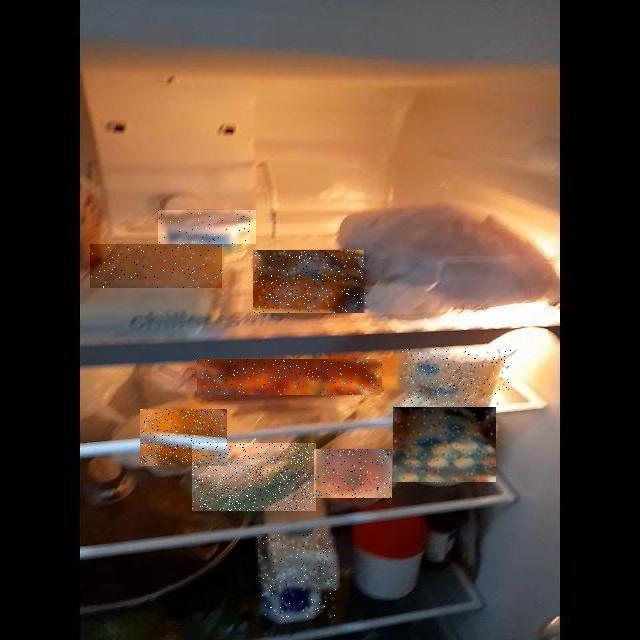Butter: (254, 250, 368, 313)
Carrot: (197, 359, 382, 395)
Cheese: (90, 244, 222, 288)
Chillies: (192, 443, 316, 511)
Lemon: (140, 409, 227, 466)
Milk: (258, 534, 336, 618)
Tomato Paste: (315, 449, 393, 498)
Yoghurt: (393, 407, 496, 482), (400, 349, 511, 405), (159, 210, 257, 244)
